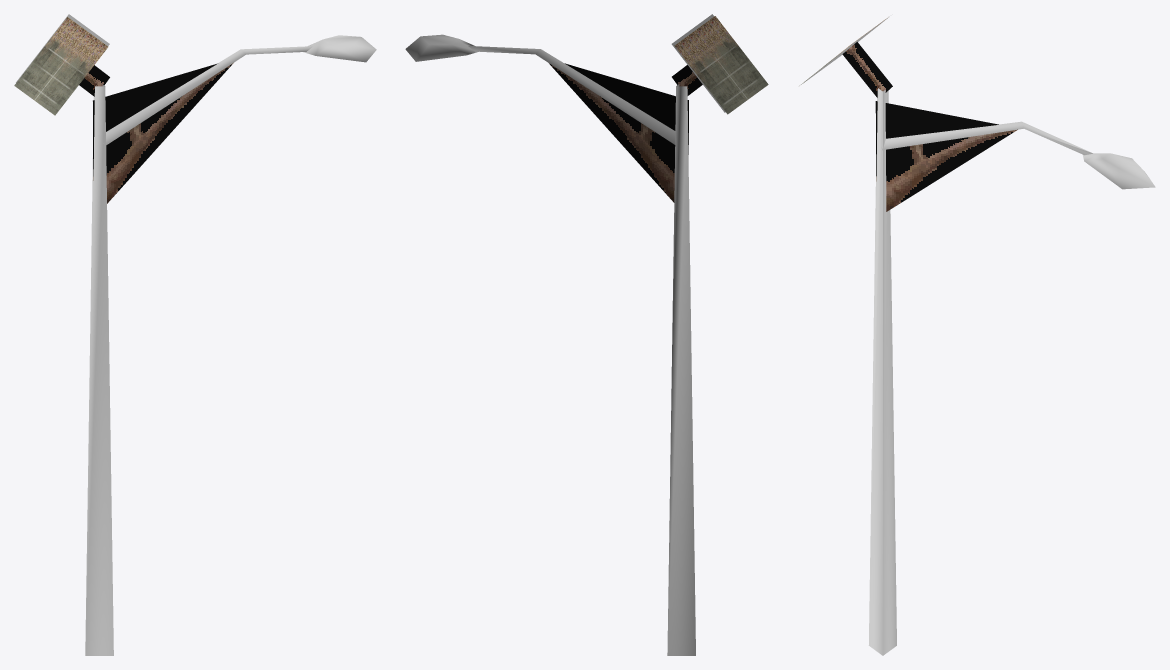
File: solarpole.fbx
3 renders of one model, left to right at view 1: azimuth 30°, elevation 25°; view 2: azimuth 150°, elevation 25°; view 3: azimuth 330°, elevation 25°, orthographic.
Visible parts, largest first — view 1: Mesh_0097.rip, Mesh_0098.rip, Mesh_0057.rip; view 2: Mesh_0097.rip, Mesh_0098.rip, Mesh_0057.rip; view 3: Mesh_0097.rip, Mesh_0098.rip.
Part boxes in pixels (<box>): Mesh_0097.rip: <box>16,14,376,655</box>; Mesh_0098.rip: <box>79,63,233,203</box>; Mesh_0057.rip: <box>14,17,108,115</box>; Mesh_0097.rip: <box>405,14,725,655</box>; Mesh_0098.rip: <box>549,63,702,202</box>; Mesh_0057.rip: <box>674,16,768,114</box>; Mesh_0097.rip: <box>803,16,1155,655</box>; Mesh_0098.rip: <box>842,42,1017,211</box>.
Bounding box in the file's own units: 635 × 1108 × 134.
